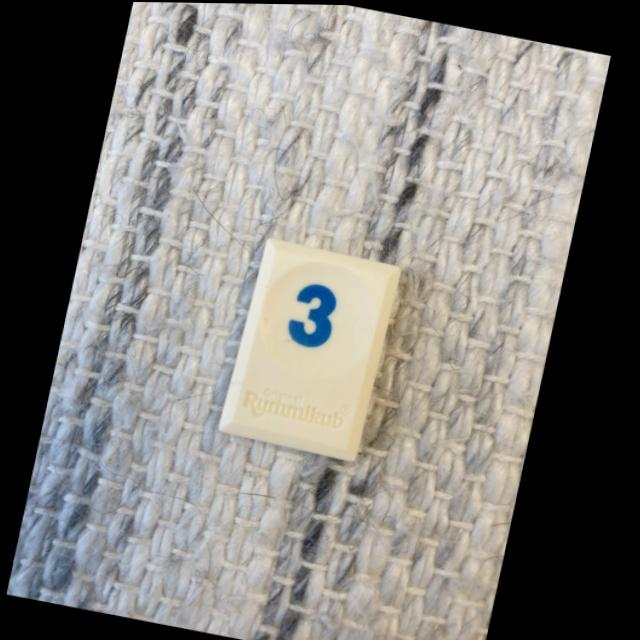blue_3: (223, 237, 402, 460)
